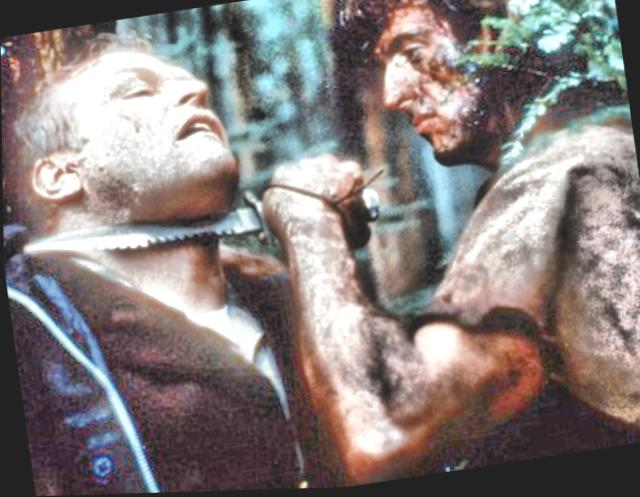knife: (9, 146, 348, 282)
